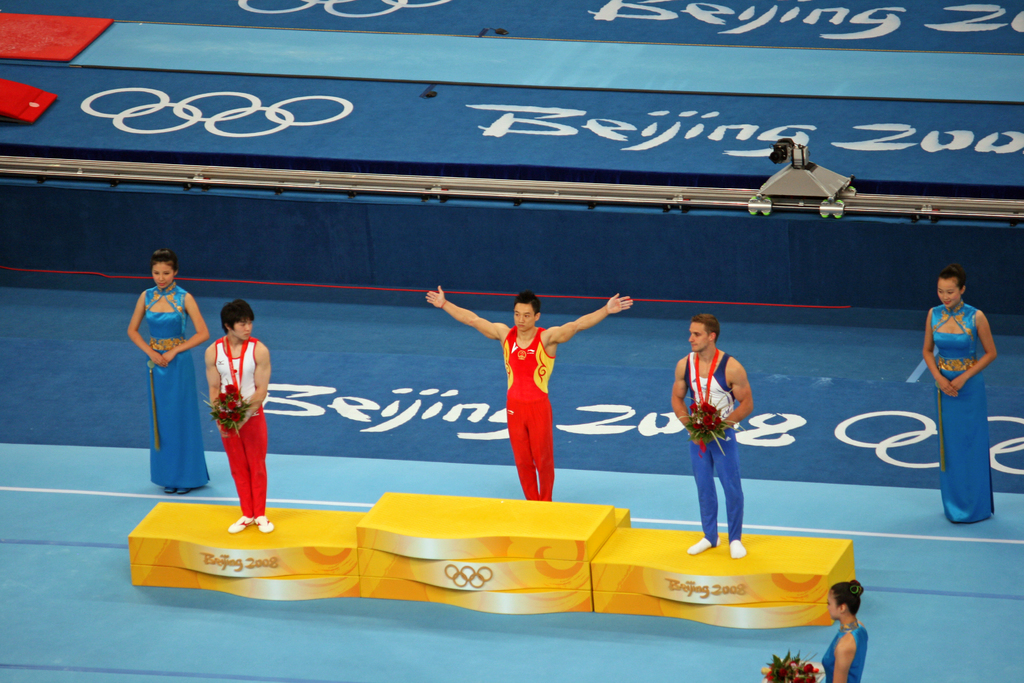Person: (426, 292, 633, 505), (125, 250, 211, 498), (669, 314, 752, 557), (922, 265, 995, 524), (203, 300, 267, 533), (814, 578, 873, 683)
